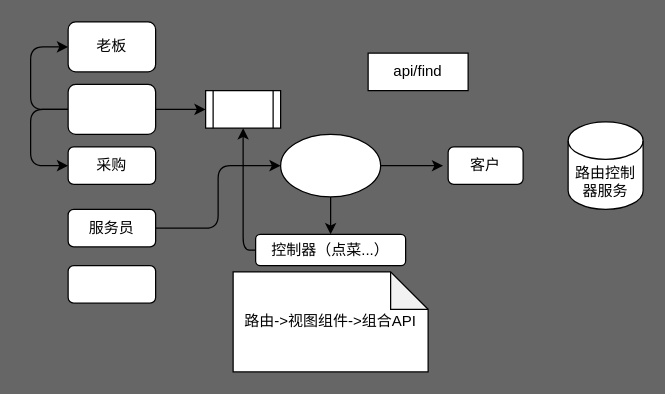
This 665x394 diagram has some shape labels left out. Each missing label, with the centre of its shape:
"其他服务..." goes at point (111, 283).
"厨师" goes at point (111, 108).
"服务员路由" goes at point (330, 165).
"炒菜" goes at point (242, 108).
